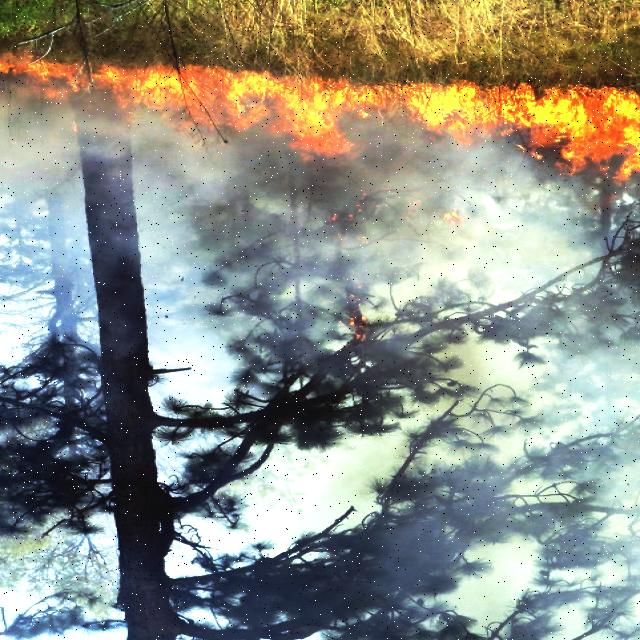api: (129, 74, 483, 123), (502, 85, 638, 163), (1, 54, 127, 97), (298, 119, 348, 151)
asap: (422, 289, 632, 631), (139, 145, 539, 275), (9, 102, 127, 178)
